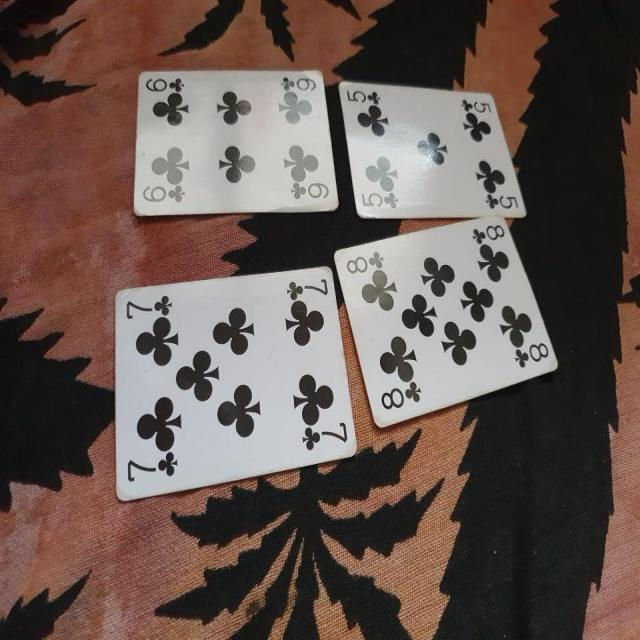5 of clubs: (336, 77, 528, 221)
6 of clubs: (130, 70, 340, 219)
7 of clubs: (112, 264, 358, 505)
8 of clubs: (332, 220, 558, 428)
